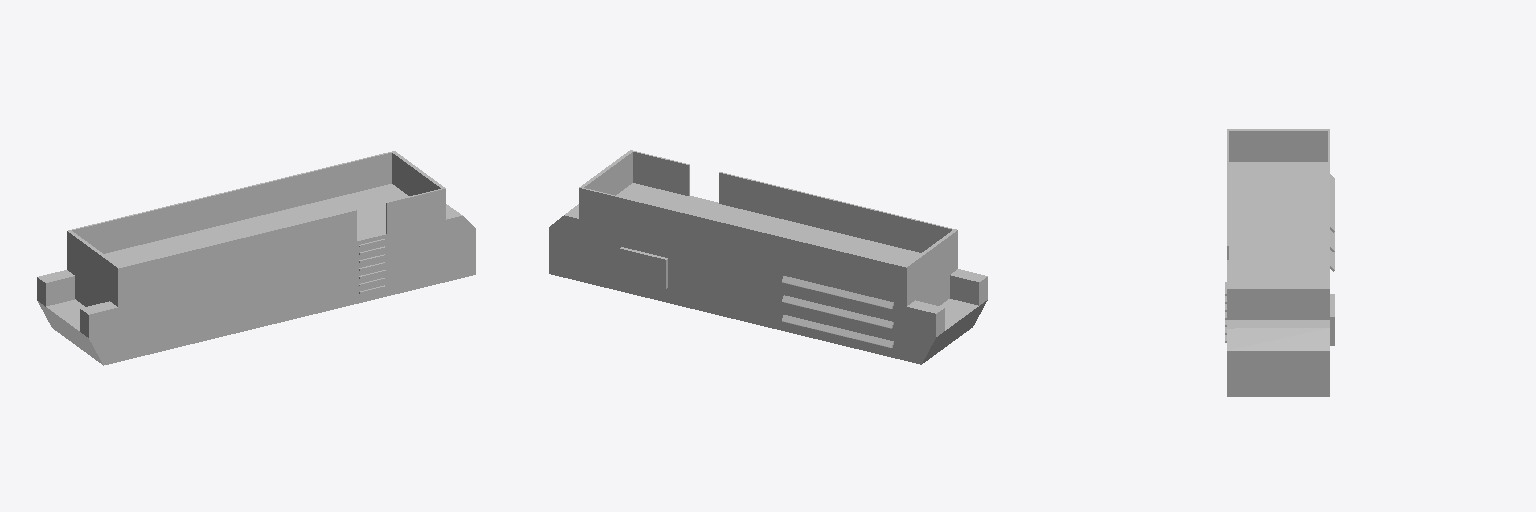
File: electric_food_oven_mirrored.obj
3 renders of one model, left to right at view 1: azimuth 30°, elevation 25°; view 2: azimuth 150°, elevation 25°; view 3: azimuth 270°, elevation 25°, orthographic.
Parts seen in each view (by area): view 1: cube; view 2: cube; view 3: cube.
Part boxes in pixels (left/top/right/bottom): cube: left=37, top=151, right=475, bottom=365; cube: left=549, top=150, right=987, bottom=364; cube: left=1225, top=129, right=1334, bottom=396.
Bounding box in the file's own units: 13 × 3 × 3.19.